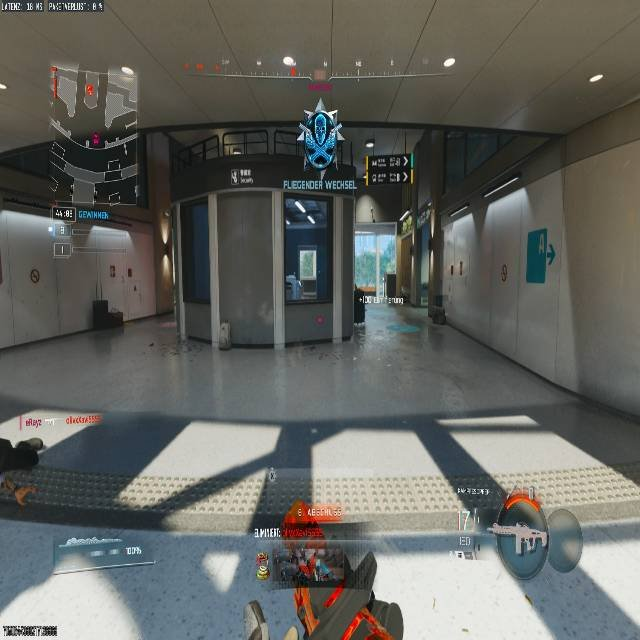player: (261, 516, 406, 639), (298, 97, 346, 185)
